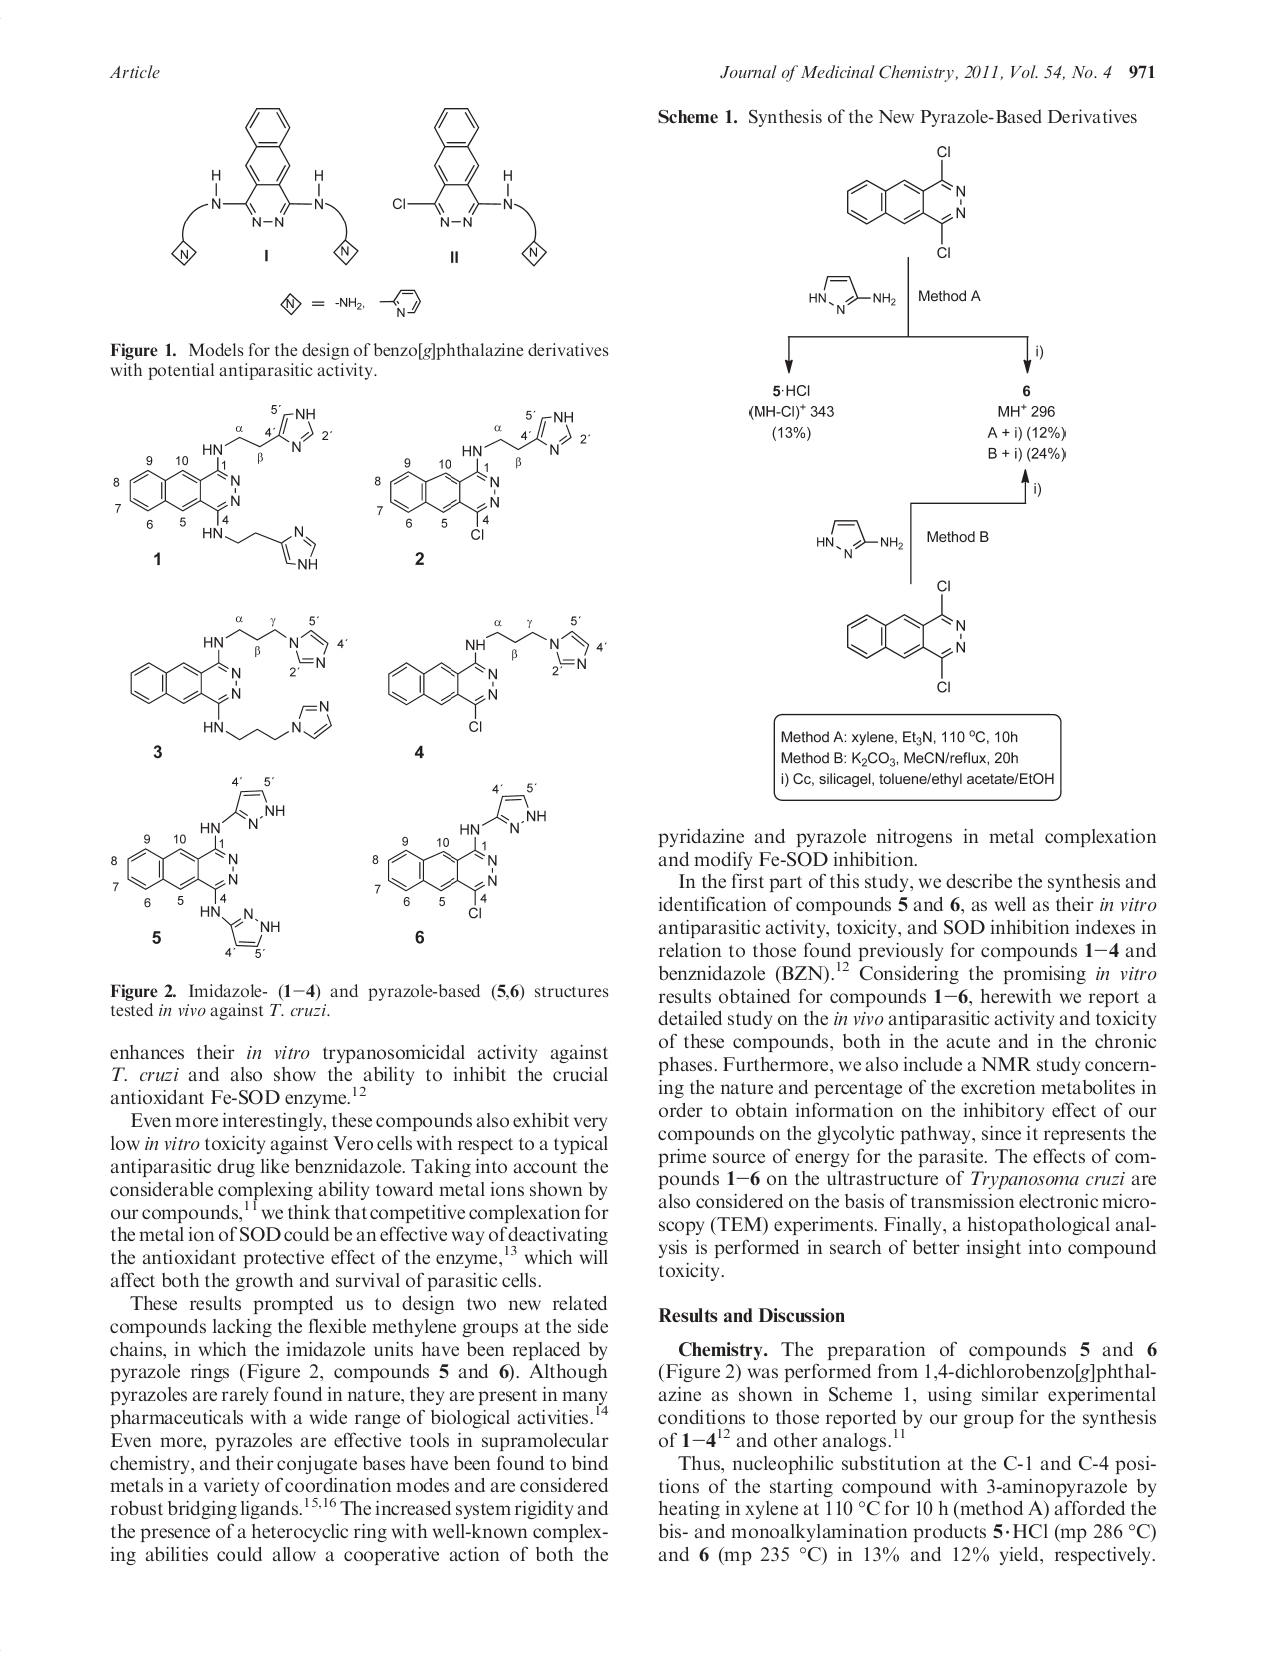exist_molecular: (168, 97, 368, 277), (128, 407, 322, 569), (386, 97, 549, 269), (383, 403, 578, 540), (124, 786, 286, 950), (128, 625, 336, 743), (383, 629, 590, 734), (383, 793, 549, 918), (838, 138, 981, 263), (843, 577, 977, 704), (805, 504, 906, 567), (801, 265, 902, 318), (374, 289, 426, 321)
